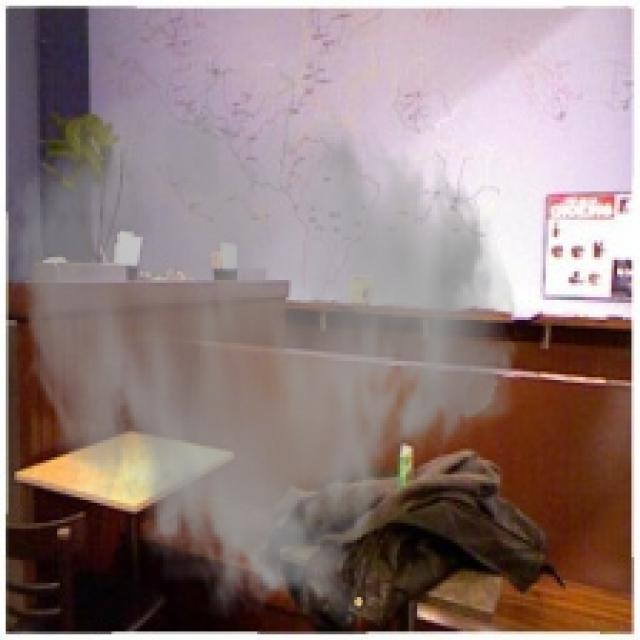smoke: (3, 83, 523, 631)
